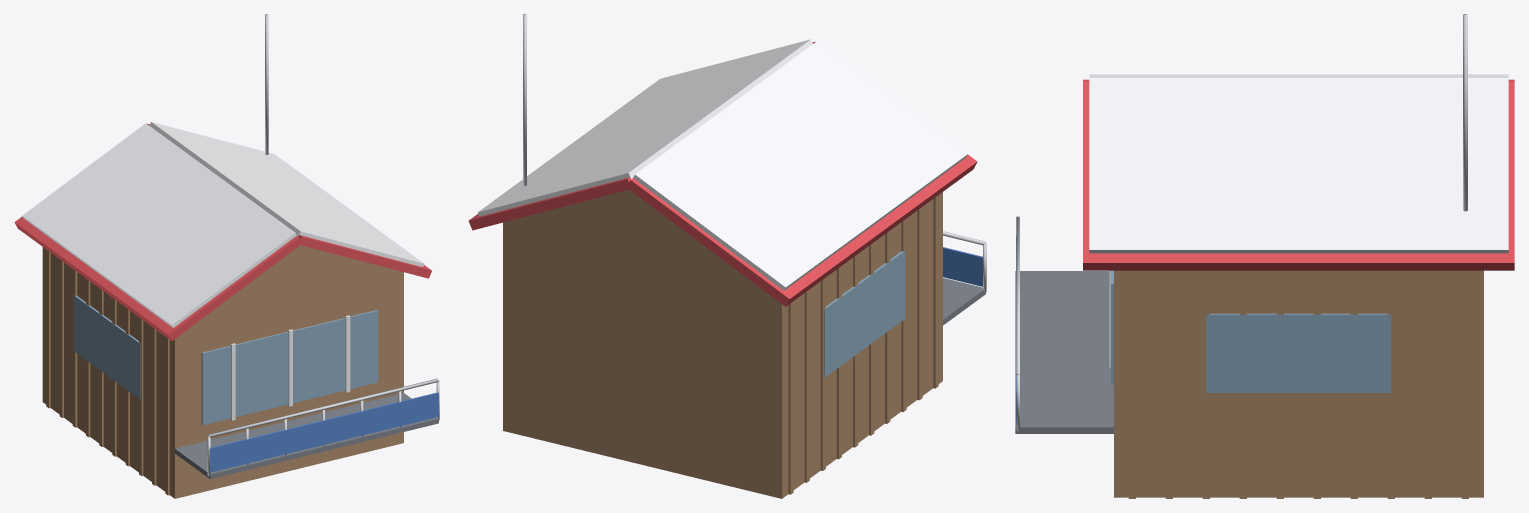
File: start_house.glb
3 renders of one model, left to right at view 1: azimuth 30°, elevation 25°; view 2: azimuth 150°, elevation 25°; view 3: azimuth 270°, elevation 25°, orthographic. The views are drawn at different scales.
Visible parts, largest first — view 1: start_house; view 2: start_house; view 3: start_house.
Boxes of the visible parts, <box> form: start_house: <box>14,14,439,498</box>; start_house: <box>468,14,986,498</box>; start_house: <box>1015,14,1514,498</box>.
Size of the model in its own units: 6.91 by 8.5 by 8.1.
